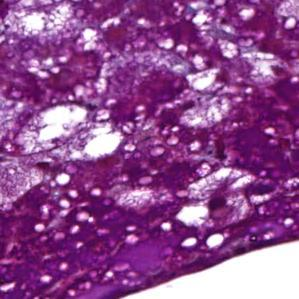ballooning: (174, 165, 259, 232), (9, 103, 91, 156)
